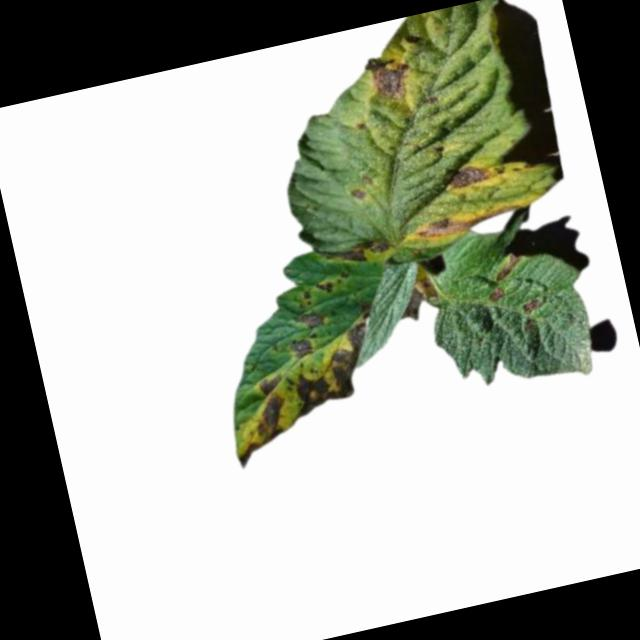Early_blight: (211, 310, 406, 472), (414, 201, 525, 246), (365, 48, 418, 108), (393, 275, 439, 329), (334, 235, 390, 271), (443, 157, 502, 190), (493, 252, 527, 283), (287, 334, 316, 362), (297, 307, 328, 332), (348, 182, 370, 204), (521, 296, 544, 316), (487, 286, 507, 306), (296, 289, 314, 309), (316, 279, 335, 296)
